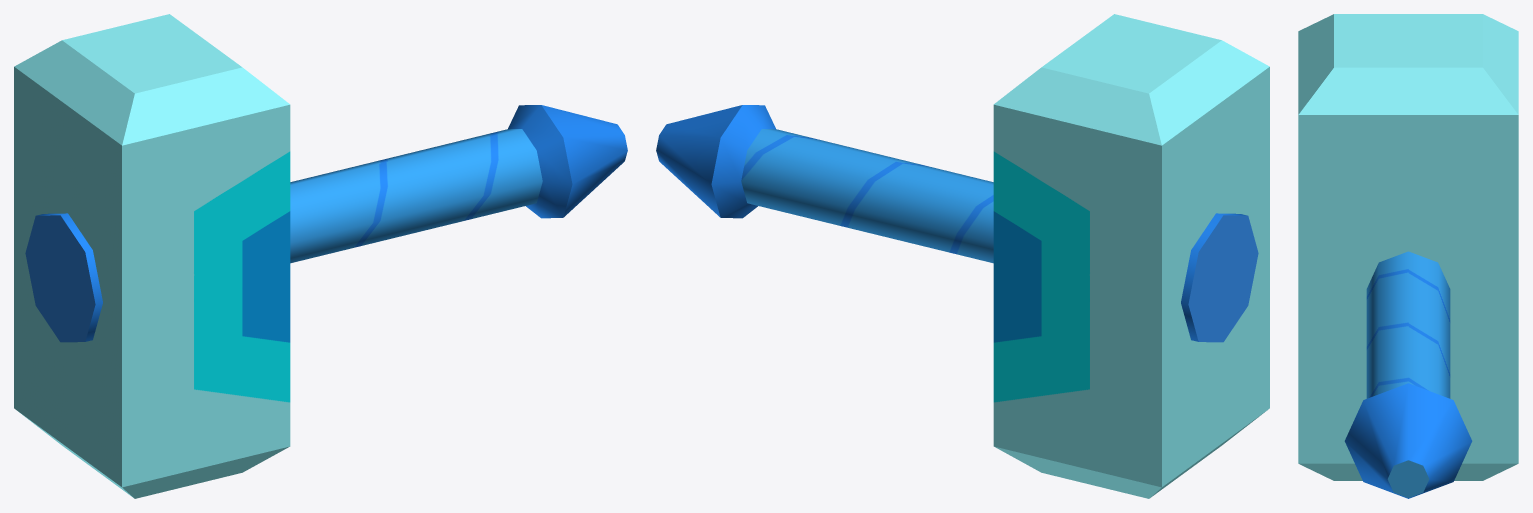
File: hammer.fbx
3 views of the same model, side by side, from view 1: azimuth 30°, elevation 25°; view 2: azimuth 150°, elevation 25°; view 3: azimuth 270°, elevation 25° (orthographic). The views are drawn at different scales.
Visible parts, largest first — view 1: hammer; view 2: hammer; view 3: hammer.
Boxes of the visible parts, x1=… form: hammer: x1=14, y1=14, x2=627, y2=498; hammer: x1=656, y1=14, x2=1269, y2=498; hammer: x1=1298, y1=14, x2=1518, y2=498.
Bounding box in the file's own units: 35.34 × 24.57 × 11.86.
